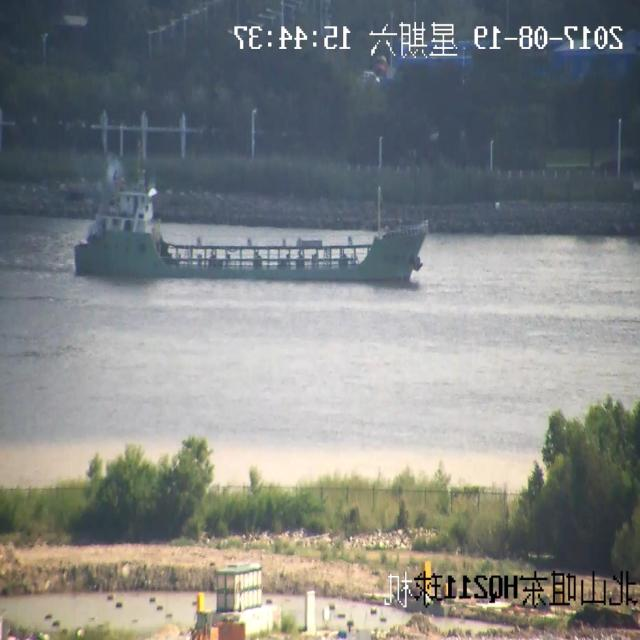houseboat: (71, 137, 439, 290)
